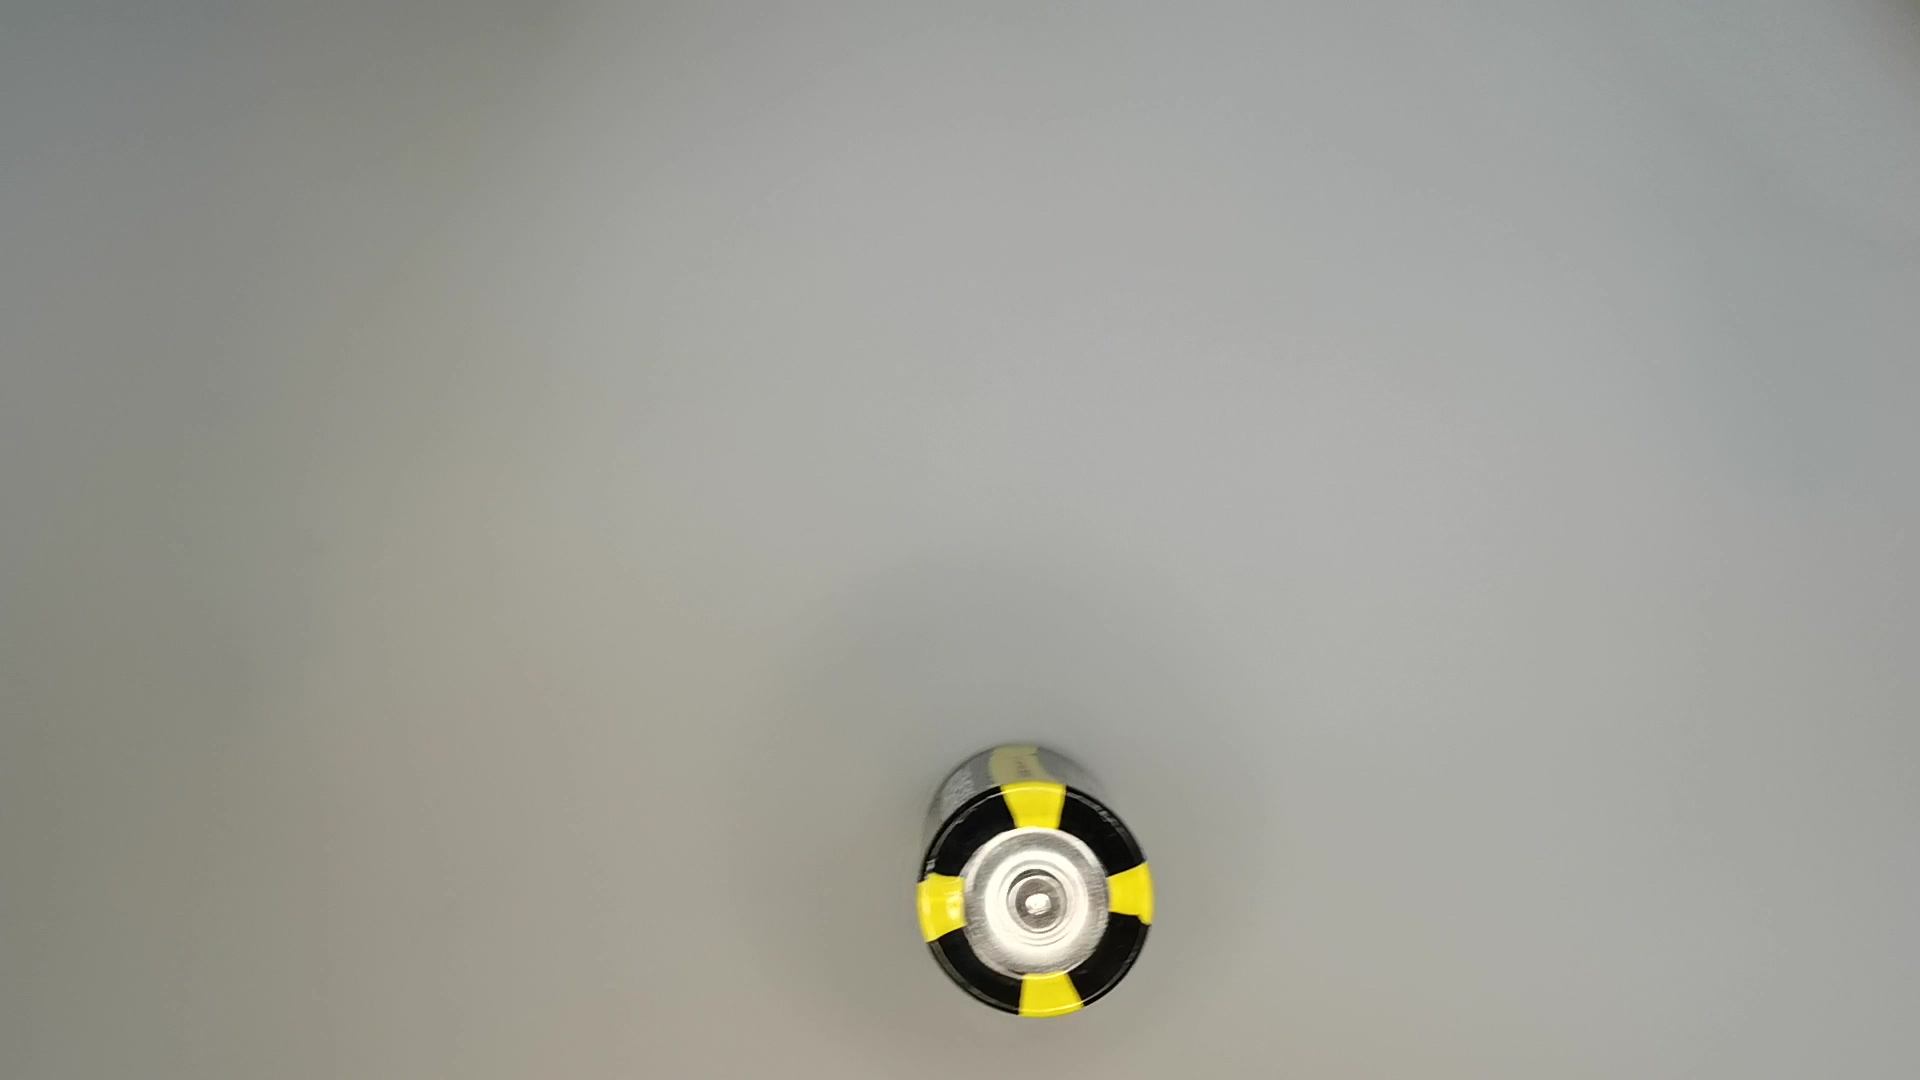battery: (913, 737, 1164, 1026)
